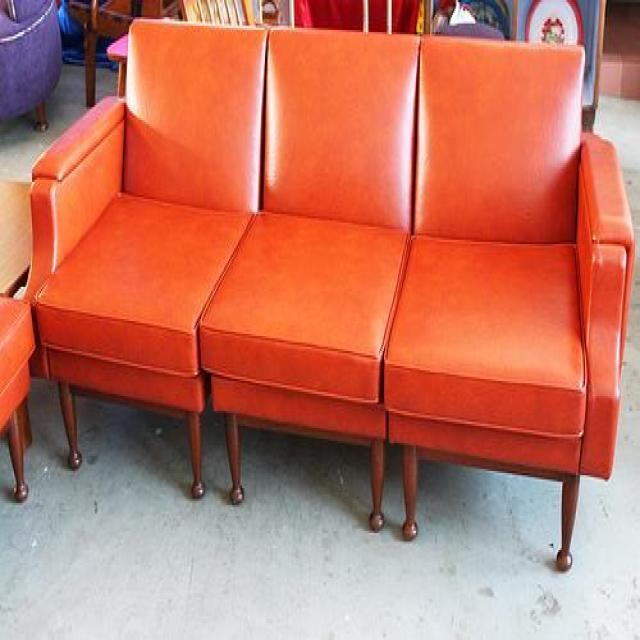sofa: (22, 17, 635, 569)
